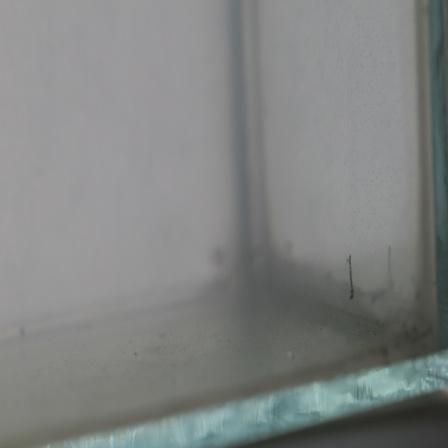Jentik-Nyamuk: (343, 250, 358, 303)
